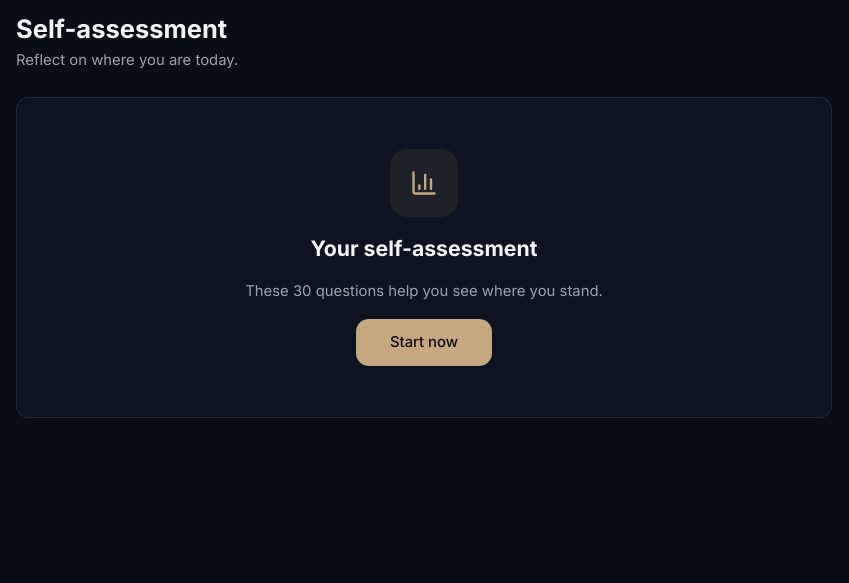
Scenario: AssessmentPage rating scale › names the chosen rating below the question
The image size is (849, 583).
Click the button "Start now": (424, 342) [356, 319, 492, 366]
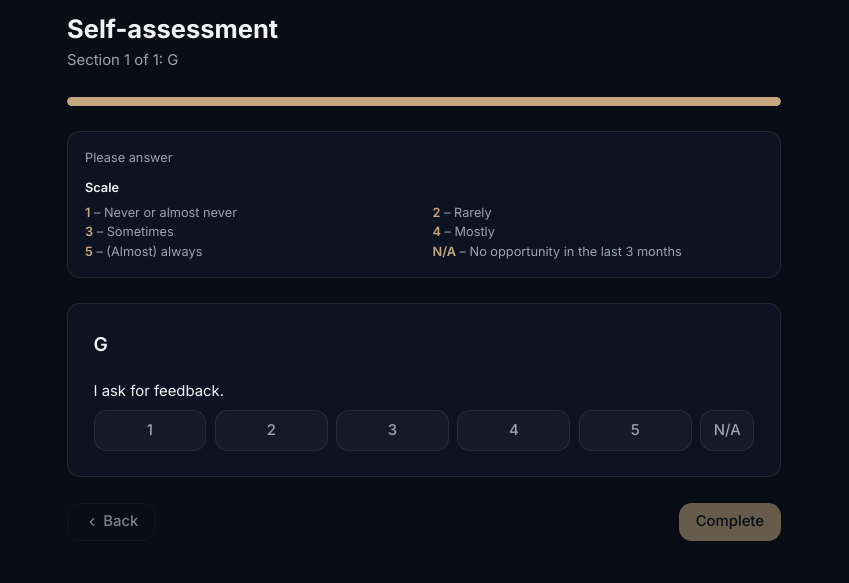
Click the button "4": (514, 430) [457, 410, 570, 451]
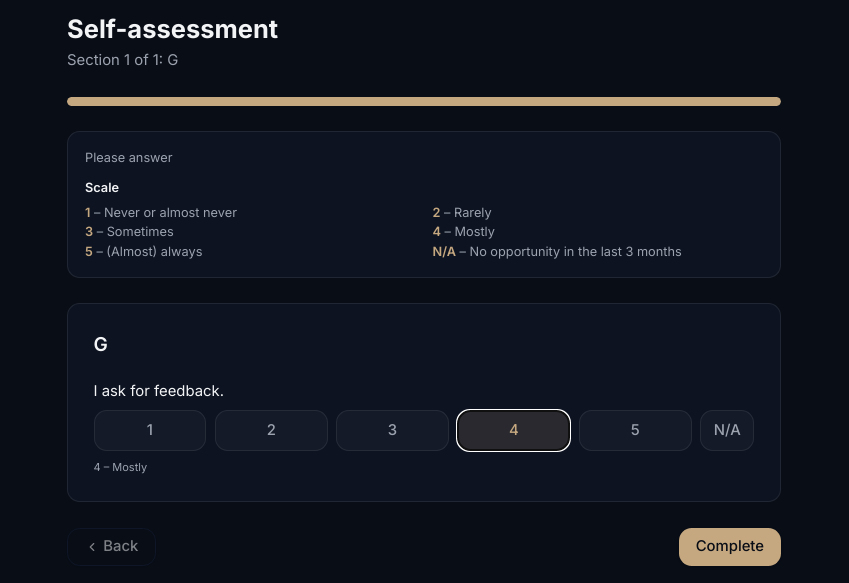
Check: the text "4 – Mostly" is shown, box [94, 460, 147, 474]
